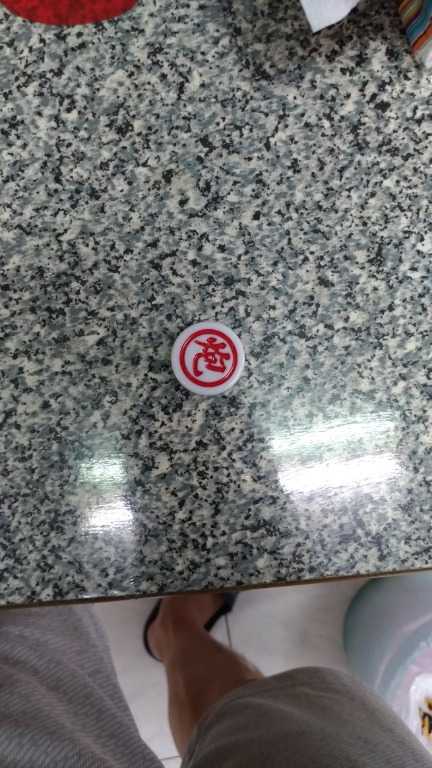r-cannon: (164, 317, 267, 402)
